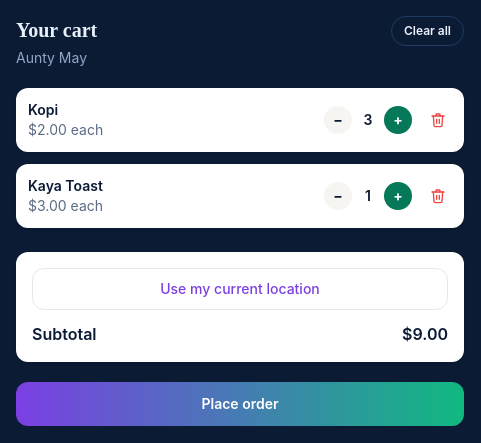
Test: CartView remove + clear all › removes a whole line in one tap, whatever its quantity
Click the button named "Remove Kopi from cart": [438, 120] box [424,106,452,134]
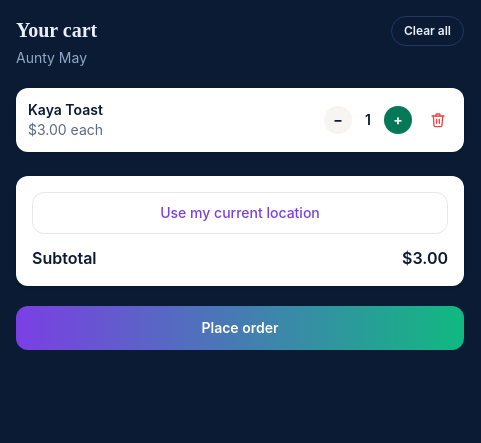
Expected: the text "Kaya Toast" is shown, [28,100,103,120]
Now the text "Kopi" is gone
